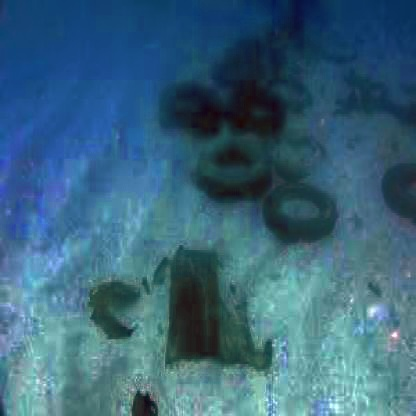tire: (262, 171, 358, 272), (150, 70, 224, 154), (188, 141, 271, 213), (230, 79, 284, 154)
